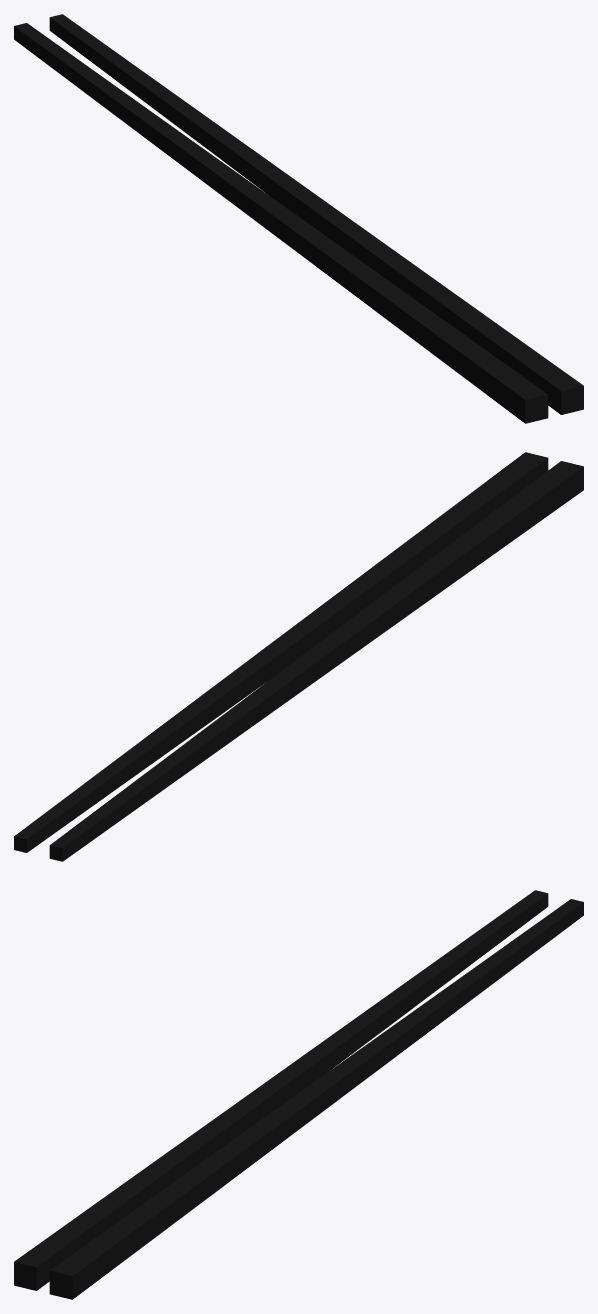
The model's file is Itr_Obj_Chopsticks_05.FBX.
3 views of the same model, one above another, from view 1: azimuth 30°, elevation 25°; view 2: azimuth 150°, elevation 25°; view 3: azimuth 330°, elevation 25° (orthographic).
Parts seen in each view (by area): view 1: Itr_Obj_Chopsticks_05; view 2: Itr_Obj_Chopsticks_05; view 3: Itr_Obj_Chopsticks_05.
Boxes of the visible parts, box(x1,y1,x2,y2) form: Itr_Obj_Chopsticks_05: box(14, 14, 583, 423); Itr_Obj_Chopsticks_05: box(14, 452, 583, 861); Itr_Obj_Chopsticks_05: box(14, 890, 583, 1299).
Bounding box in the file's own units: 0.286 × 0.1115 × 4.37.
